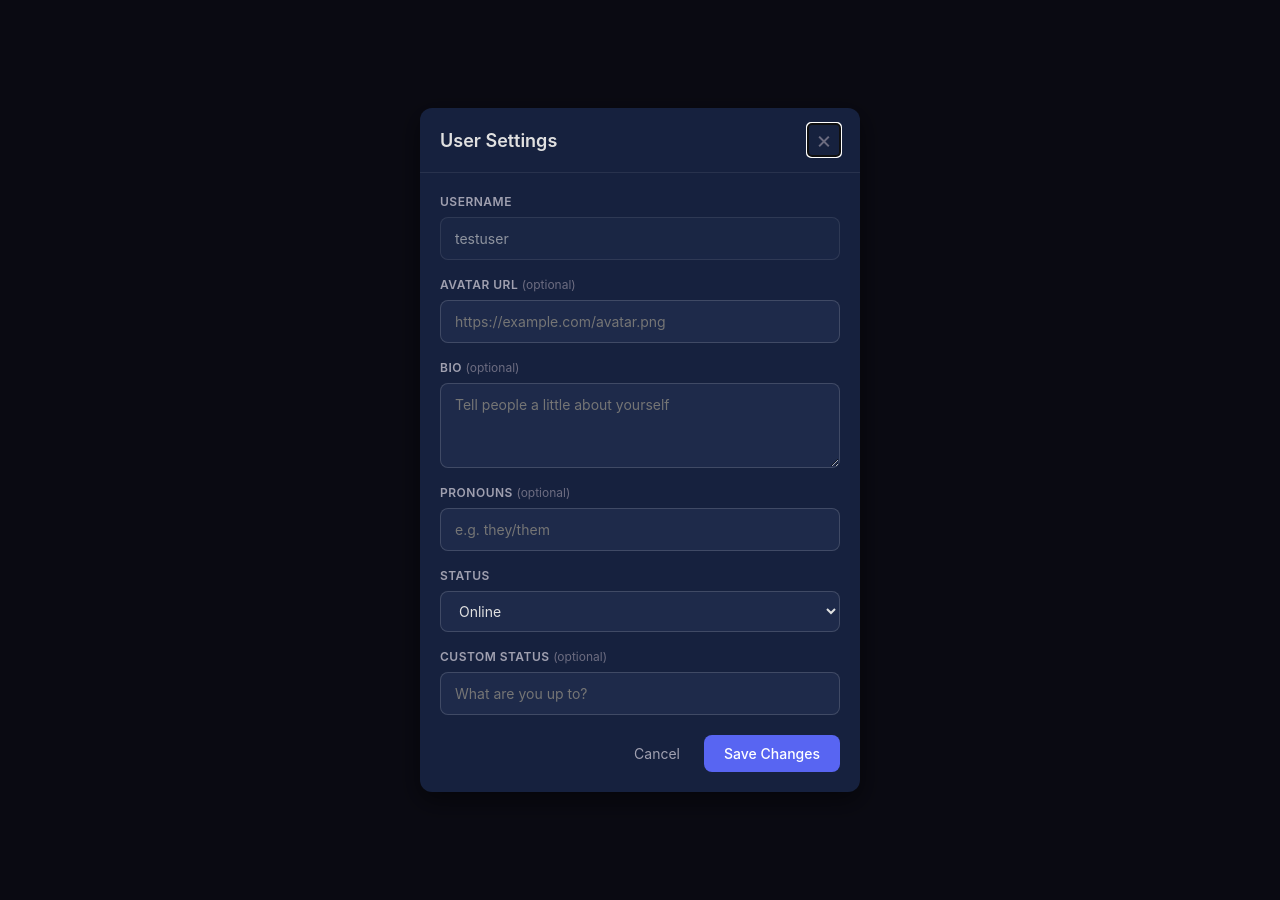
Scenario: UserSettingsModal — form submission › displays generic error for non-Error rejections
This screenshot has width=1280, height=900.
Click the button "Save Changes" at (772, 754), box [704,735,840,772]
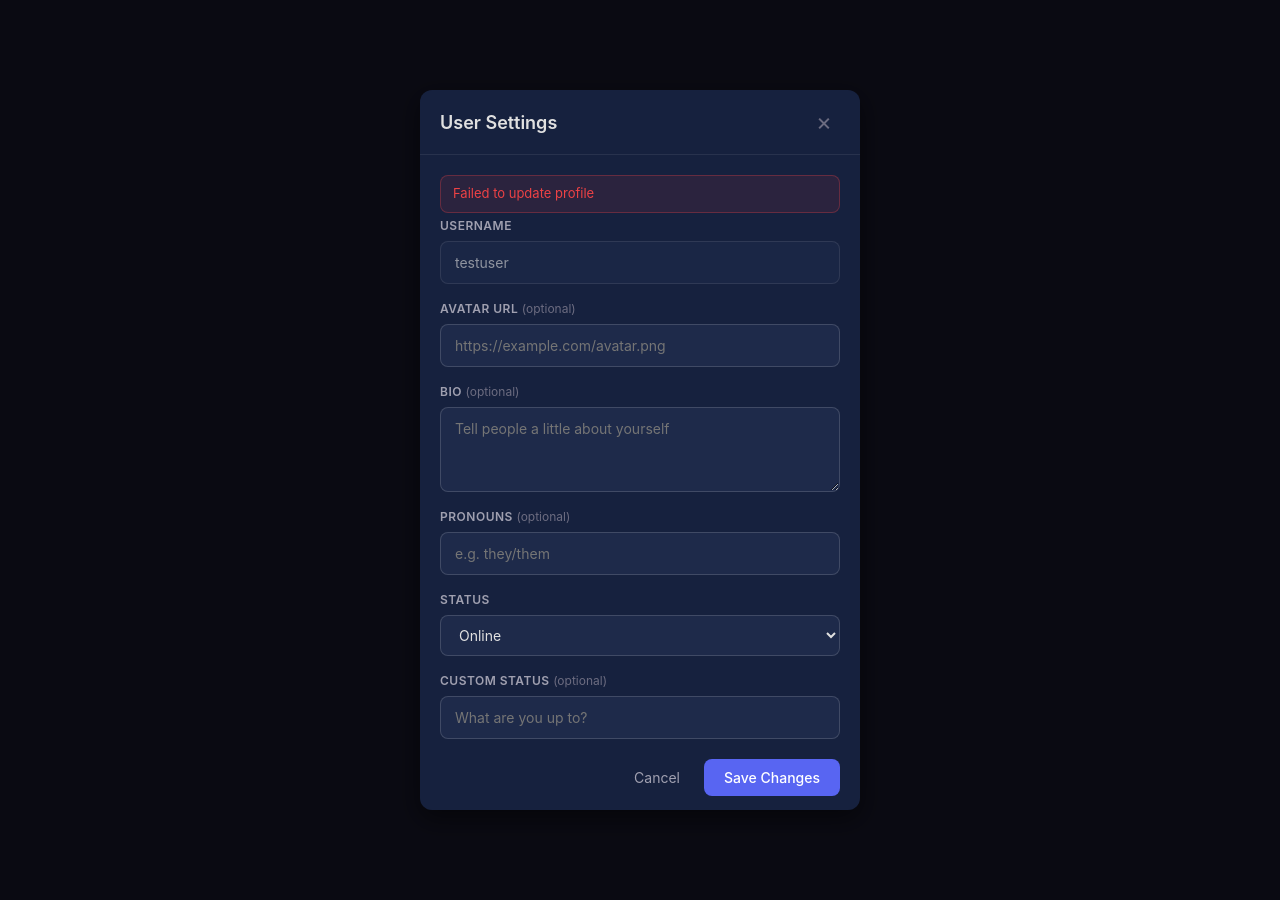
Result: the text "Failed to update profile" is shown at [440,175,840,212]
